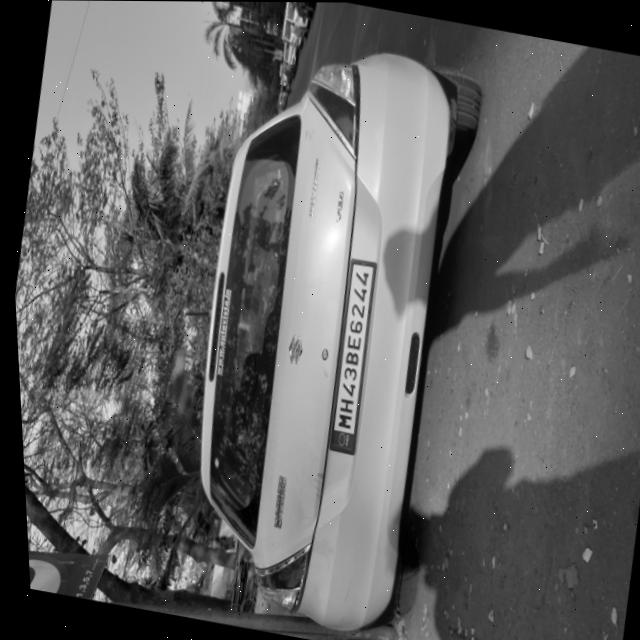car: (14, 341, 305, 632)
